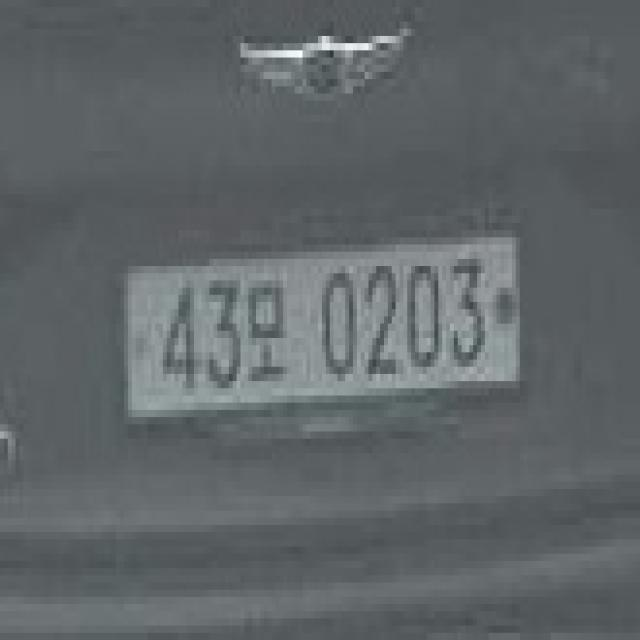plat: (120, 231, 522, 422)
